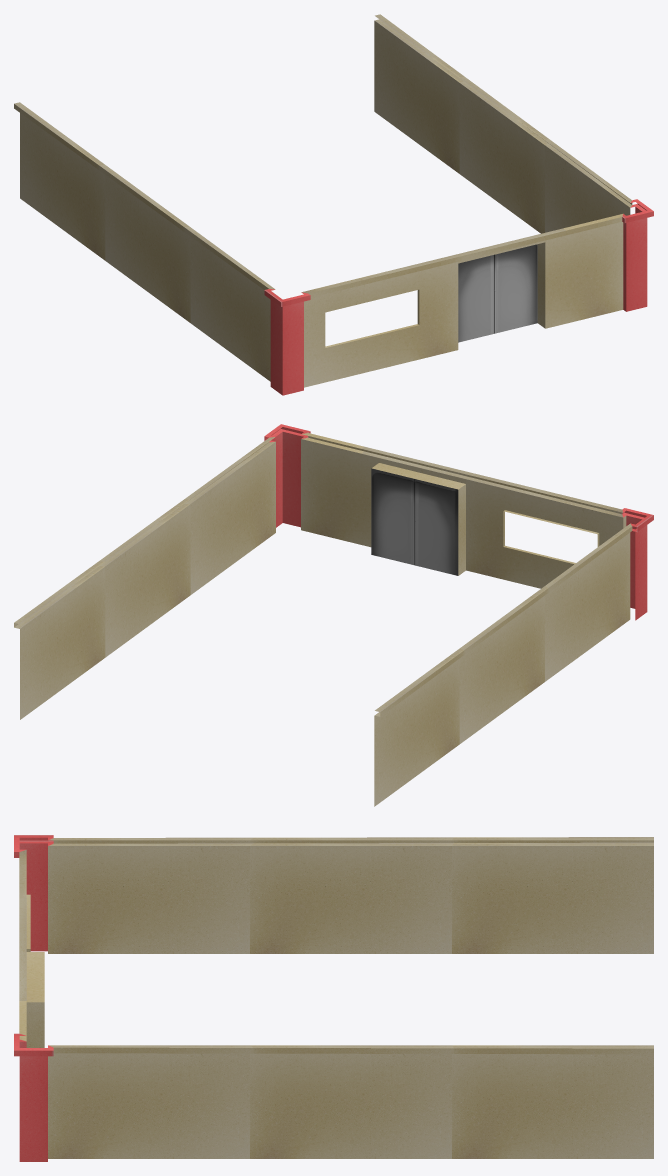
File: Predio15m_Saguao.FBX
3 views of the same model, one above another, from view 1: azimuth 30°, elevation 25°; view 2: azimuth 150°, elevation 25°; view 3: azimuth 270°, elevation 25° (orthographic). The views are drawn at different scales.
Parts seen in each view (by area): view 1: Predio15m_Saguao; view 2: Predio15m_Saguao; view 3: Predio15m_Saguao.
Part boxes in pixels (box(x1,y1,x2,y2)): Predio15m_Saguao: box(14, 14, 653, 395); Predio15m_Saguao: box(14, 424, 653, 806); Predio15m_Saguao: box(14, 835, 653, 1161).
Size of the model in its own units: 1218 by 300 by 1530.
Materials: 1 (1 with a texture image).
